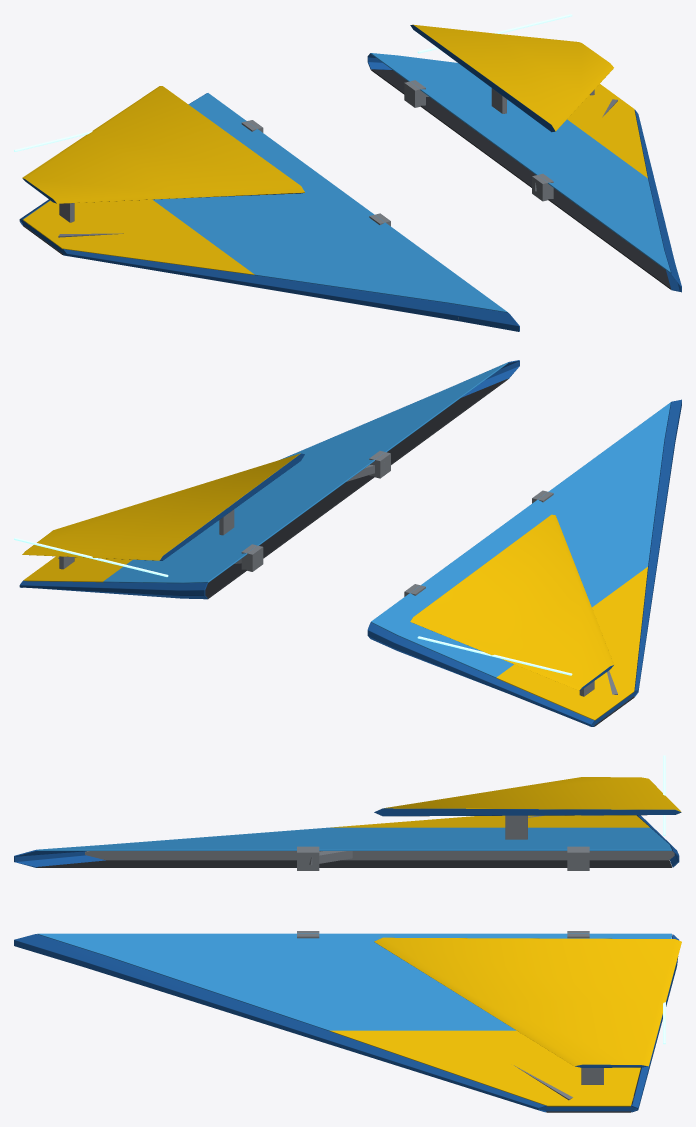
The model's file is strix_wing_vector.fbx.
3 views of the same model, one above another, from view 1: azimuth 30°, elevation 25°; view 2: azimuth 150°, elevation 25°; view 3: azimuth 270°, elevation 25° (orthographic). The views are drawn at different scales.
Visible parts, largest first — view 1: Wing_Top_L.001, Wing_Top_R.001, Wing_Vector_Extra_L, Wing_Vector_Extra_R, Wing_LE_L.001, Wing_Bottom_R.001, Wing_LE_R.001, Wing_Structure_R.001, Wing_Structure_L.001; view 2: Wing_Top_L.001, Wing_Vector_Extra_L, Wing_Top_R.001, Wing_Vector_Extra_R, Wing_Bottom_R.001, Wing_TE_L.001, Wing_LE_L.001, Wing_TE_R.001, Wing_Structure_R.001, Wing_LE_R.001; view 3: Wing_Top_R.001, Wing_Vector_Extra_R, Wing_Top_L.001, Wing_Vector_Extra_L, Wing_LE_R.001, Wing_Structure_L.001, Wing_Bottom_L.001, Wing_LE_L.001, Wing_TE_R.001, Wing_Structure_R.001, Wing_Tip_R.001.
Part boxes in pixels (bbox=[...]): Wing_Top_L.001: bbox=[23, 93, 507, 312]; Wing_Top_R.001: bbox=[371, 53, 670, 273]; Wing_Vector_Extra_L: bbox=[14, 86, 304, 222]; Wing_Vector_Extra_R: bbox=[410, 14, 613, 132]; Wing_LE_L.001: bbox=[63, 249, 519, 331]; Wing_Bottom_R.001: bbox=[371, 69, 670, 289]; Wing_LE_R.001: bbox=[634, 110, 681, 292]; Wing_Structure_R.001: bbox=[404, 80, 617, 201]; Wing_Structure_L.001: bbox=[58, 120, 458, 319]; Wing_Top_L.001: bbox=[371, 402, 670, 720]; Wing_Vector_Extra_L: bbox=[410, 514, 614, 696]; Wing_Top_R.001: bbox=[23, 362, 508, 583]; Wing_Vector_Extra_R: bbox=[14, 453, 304, 576]; Wing_Bottom_R.001: bbox=[205, 379, 507, 598]; Wing_TE_L.001: bbox=[367, 622, 594, 726]; Wing_LE_L.001: bbox=[634, 399, 681, 696]; Wing_TE_R.001: bbox=[19, 581, 207, 599]; Wing_Structure_R.001: bbox=[58, 451, 390, 571]; Wing_LE_R.001: bbox=[283, 360, 519, 458]; Wing_Top_R.001: bbox=[37, 933, 671, 1106]; Wing_Vector_Extra_R: bbox=[374, 937, 681, 1084]; Wing_Top_L.001: bbox=[37, 815, 671, 850]; Wing_Vector_Extra_L: bbox=[374, 755, 681, 839]; Wing_LE_R.001: bbox=[14, 934, 546, 1112]; Wing_Structure_L.001: bbox=[85, 815, 674, 870]; Wing_Bottom_L.001: bbox=[37, 860, 671, 867]; Wing_LE_L.001: bbox=[14, 849, 105, 867]; Wing_TE_R.001: bbox=[631, 934, 679, 1112]; Wing_Structure_R.001: bbox=[297, 931, 633, 1100]; Wing_Tip_R.001: bbox=[539, 1104, 636, 1112].
Bounding box in the file's own units: 309 × 44.94 × 296.
